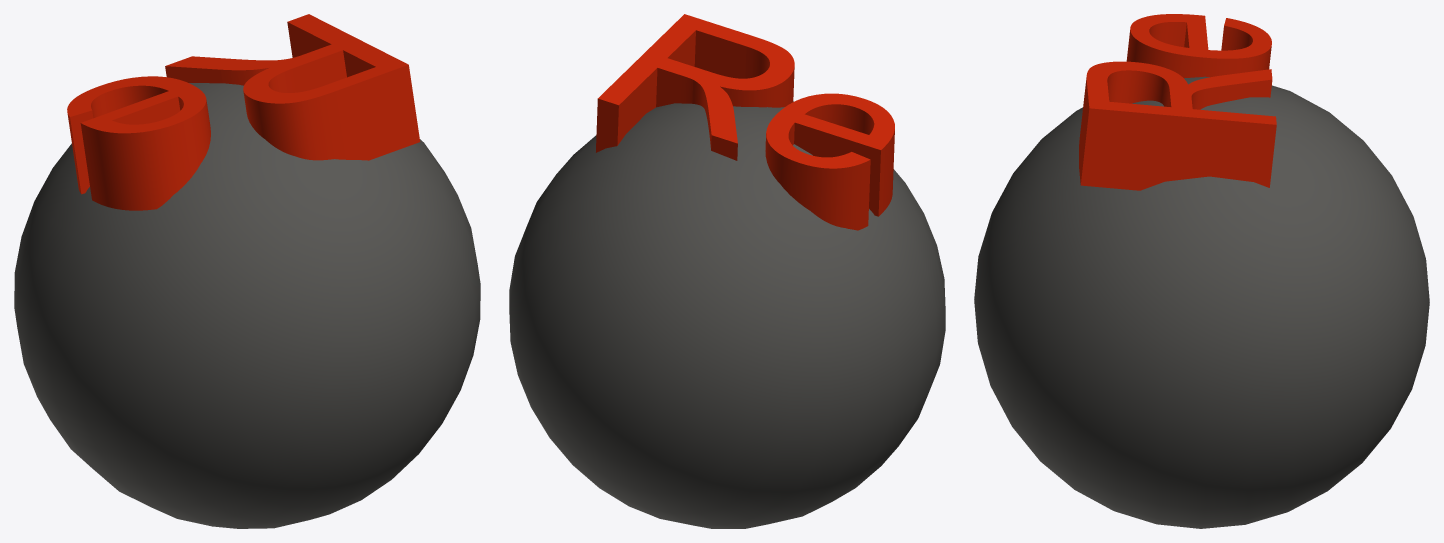
3 renders of one model, left to right at view 1: azimuth 30°, elevation 25°; view 2: azimuth 150°, elevation 25°; view 3: azimuth 270°, elevation 25°, orthographic. The views are drawn at different scales.
Parts seen in each view (by area): view 1: Re; view 2: Re; view 3: Re.
Part boxes in pixels (x1,y1,x2,y2): Re: [14, 14, 480, 528]; Re: [509, 14, 945, 528]; Re: [974, 14, 1429, 528].
Bounding box in the file's own units: 38.63 × 42.01 × 38.72.
